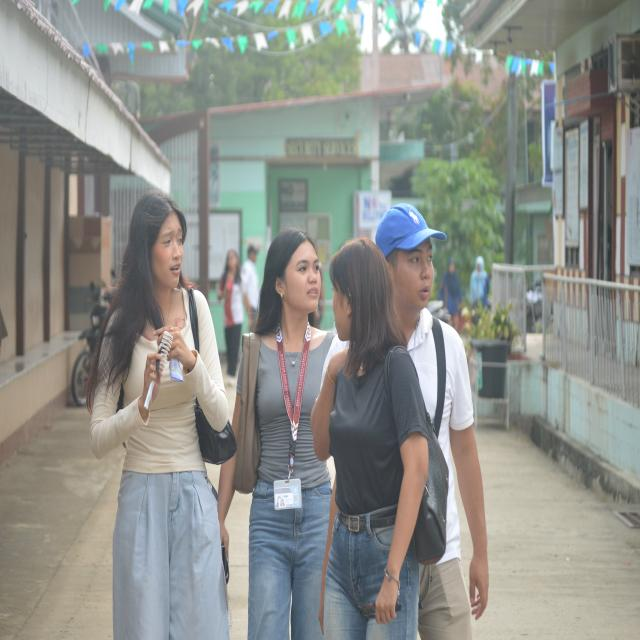person: (87, 191, 229, 639), (312, 239, 428, 639), (248, 228, 334, 639), (419, 323, 488, 639), (218, 250, 243, 378), (439, 257, 462, 331), (241, 245, 259, 331), (470, 256, 488, 307)
